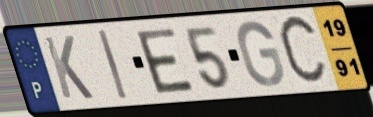5: (181, 23, 234, 90)
C: (276, 11, 331, 91)
E: (133, 25, 198, 96)
G: (235, 19, 287, 89)
I: (95, 28, 130, 102)
K: (40, 34, 96, 102)
